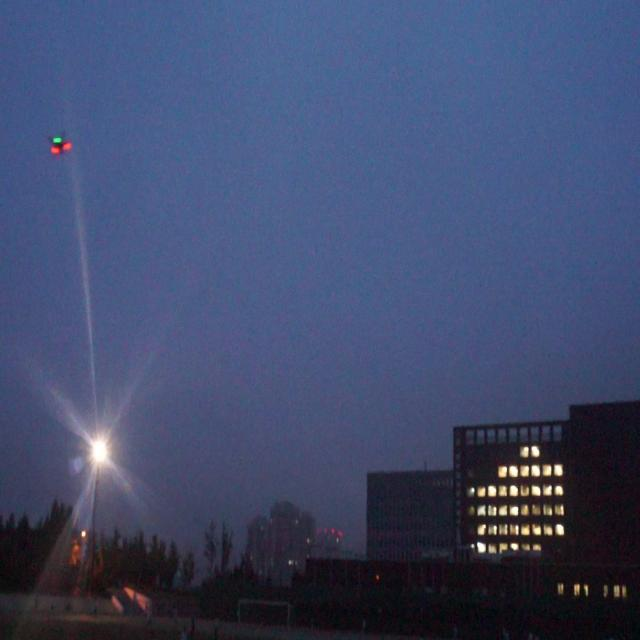UAV: (48, 136, 72, 155)
